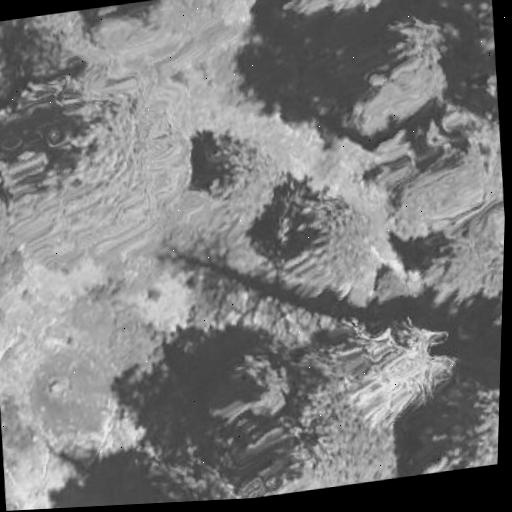tree-top: (165, 327, 417, 503), (0, 44, 185, 259), (381, 116, 508, 240), (343, 18, 463, 144), (190, 127, 299, 233), (401, 365, 500, 476), (271, 191, 374, 295), (0, 9, 95, 108), (418, 214, 505, 315), (112, 0, 241, 48), (0, 162, 36, 291), (272, 0, 395, 19), (453, 0, 497, 51), (5, 492, 44, 511)
